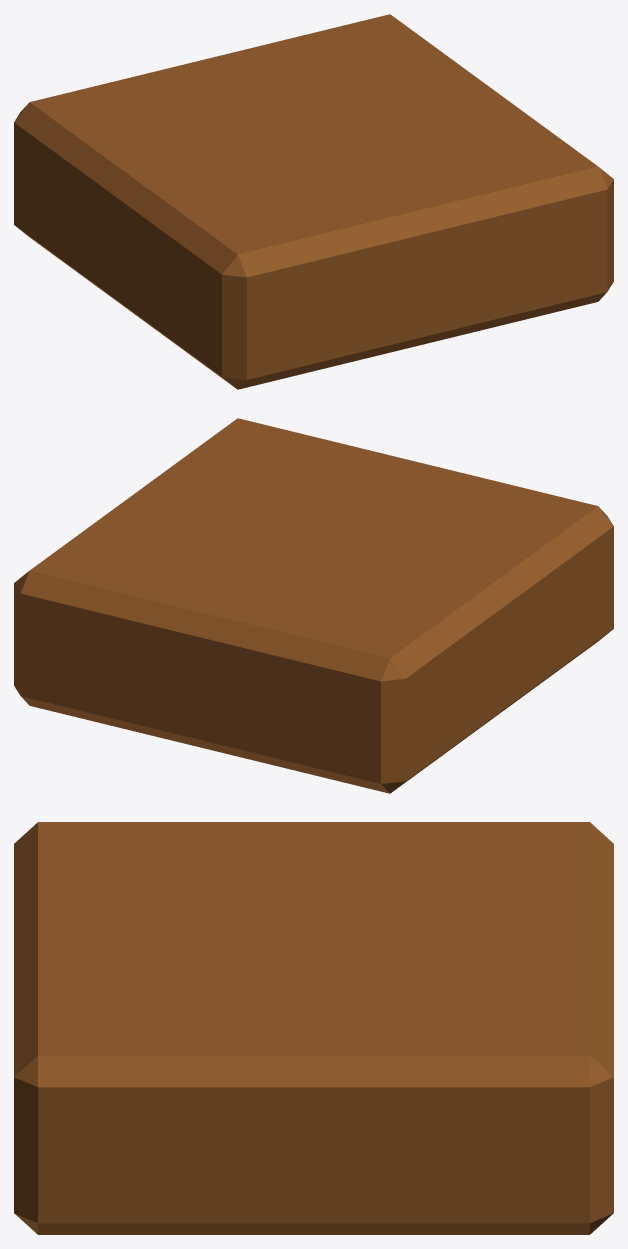
File: TileDirt.glb
3 renders of one model, top to bottom at view 1: azimuth 30°, elevation 25°; view 2: azimuth 150°, elevation 25°; view 3: azimuth 270°, elevation 25°, orthographic. The views are drawn at different scales.
Parts seen in each view (by area): view 1: Cube; view 2: Cube; view 3: Cube.
Boxes of the visible parts, x1,y1,x2,y2 form: Cube: [14, 14, 613, 389]; Cube: [14, 418, 613, 793]; Cube: [14, 822, 613, 1234].
Size of the model in its own units: 1 by 0.33 by 1.
